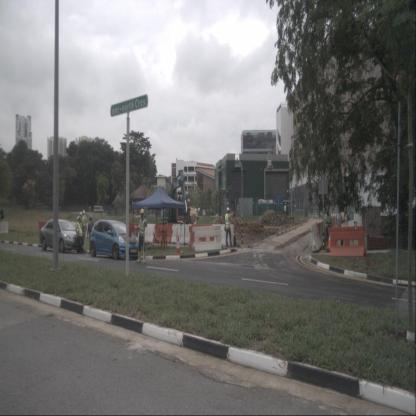movable_object-barrier: (328, 226, 367, 258), (188, 223, 214, 251), (192, 226, 221, 250), (212, 224, 234, 247), (170, 224, 193, 245), (154, 222, 174, 244), (140, 223, 156, 243), (127, 222, 140, 244)
movable_object-trafficcone: (174, 236, 181, 255), (326, 235, 332, 250), (160, 240, 163, 249)
vehicle-car: (89, 218, 139, 260), (40, 218, 82, 253)
vehicle-truck: (94, 205, 104, 214)
